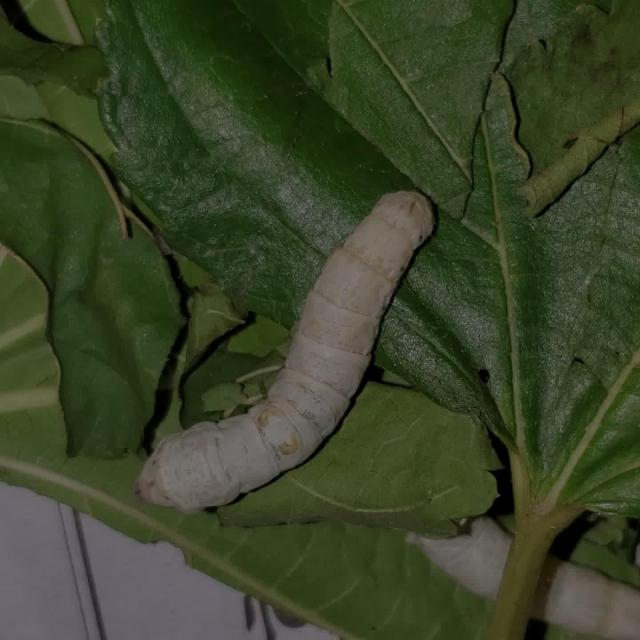Healthy: (120, 169, 489, 563)
